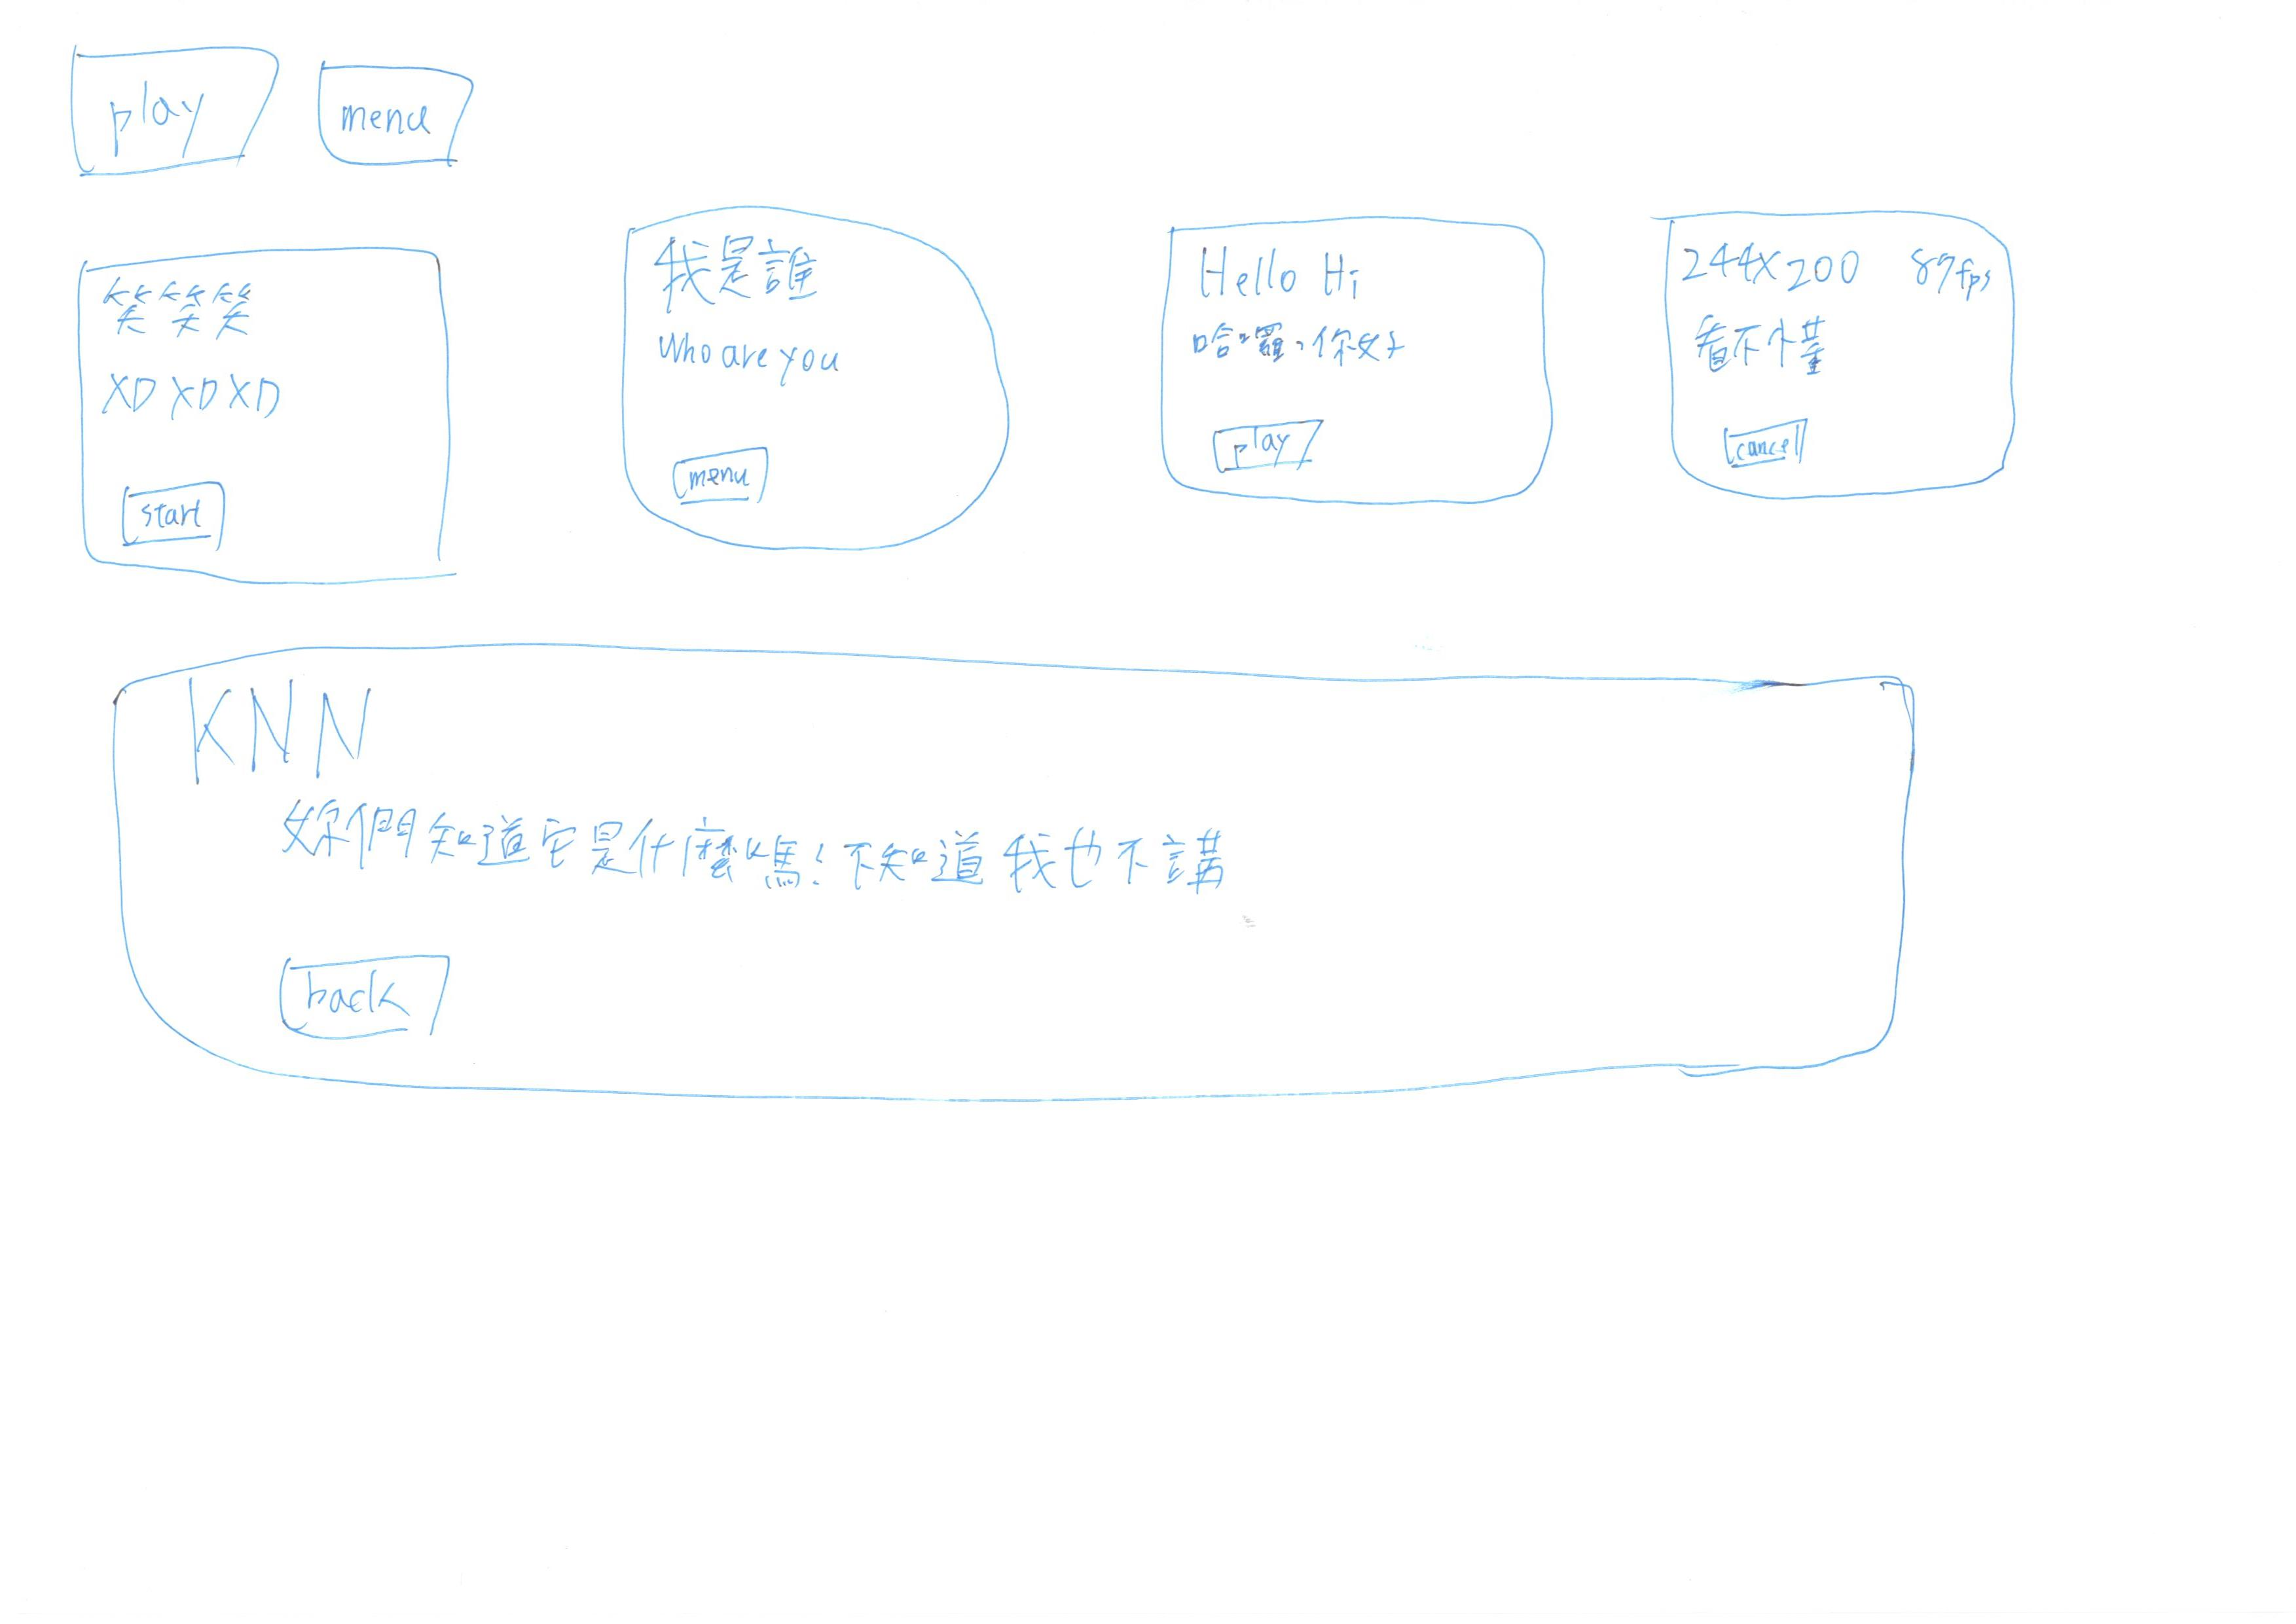back: (244, 933, 571, 1063)
cancel: (1702, 406, 1816, 475)
menu: (304, 35, 482, 188), (658, 438, 786, 522)
play: (40, 25, 287, 195), (1194, 408, 1352, 482)
quadruple: (62, 227, 543, 620), (580, 183, 1062, 575), (1127, 185, 1609, 576), (1621, 160, 2103, 552)
row: (19, 598, 2256, 1237), (37, 207, 2245, 598), (21, 0, 2226, 237)
single: (63, 613, 2029, 1176)
small-title: (167, 675, 462, 756), (1686, 230, 1988, 308), (86, 276, 290, 350), (1194, 237, 1391, 302), (670, 250, 816, 295)
start: (113, 468, 250, 566)
text: (262, 791, 1266, 914), (1194, 309, 1433, 376), (93, 357, 313, 429), (635, 325, 876, 378), (1700, 302, 1825, 387)
